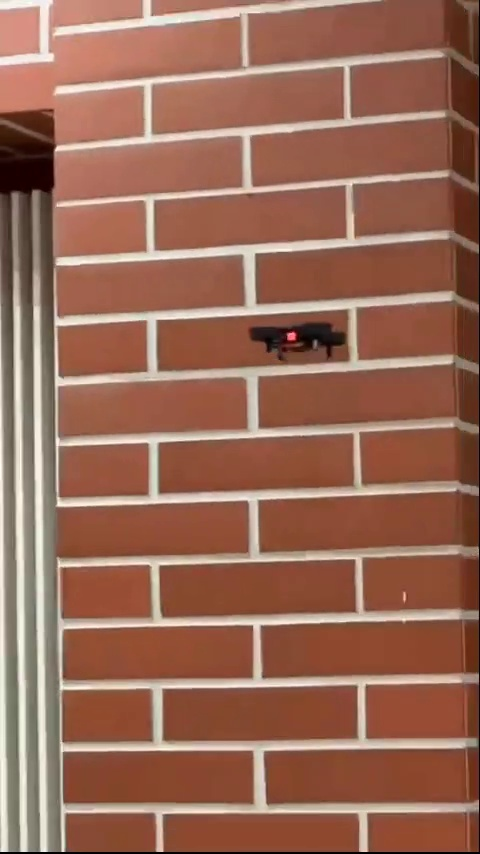drone: (246, 320, 352, 357)
